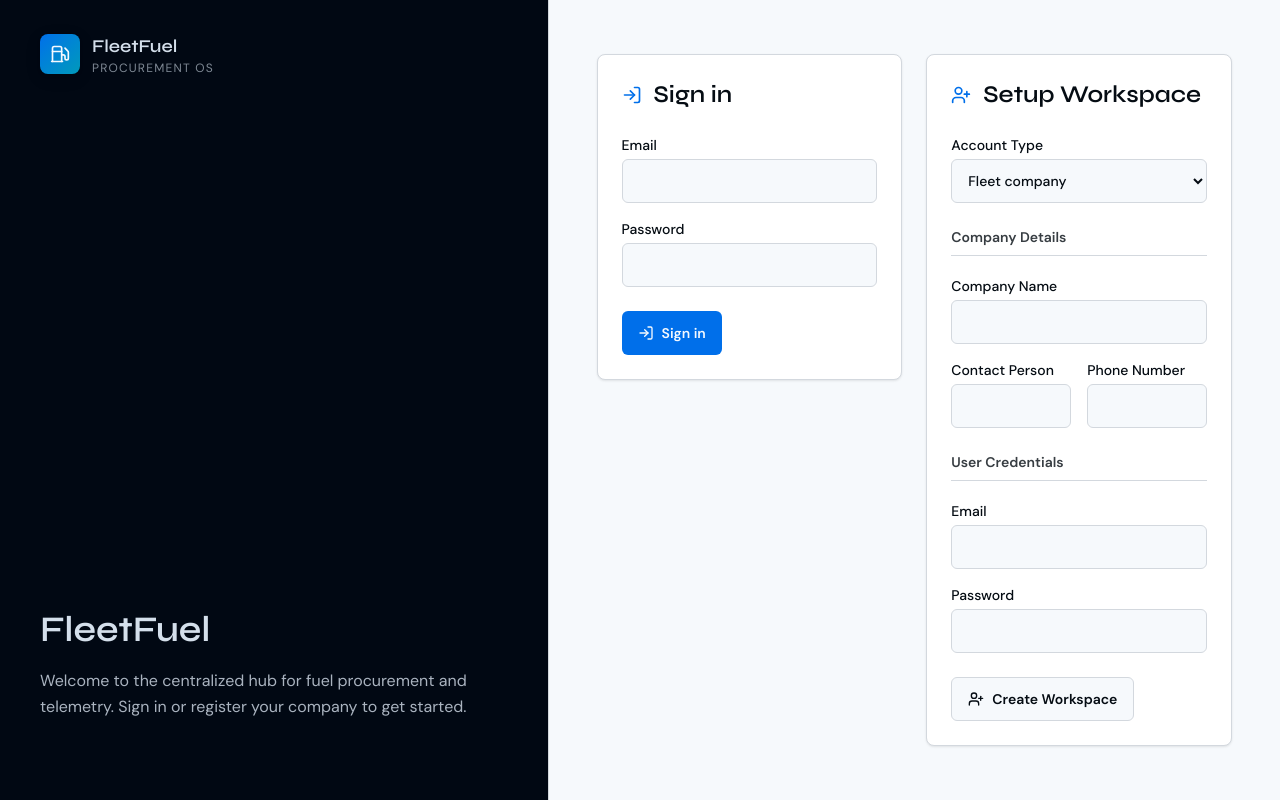
Test: App authentication › logs in a fuel supplier user and shows only supplier workspace routes
Step 1. Type "supplier@example.com" into the 1st field labelled "Email" → (749, 181), box [622,159,877,203]
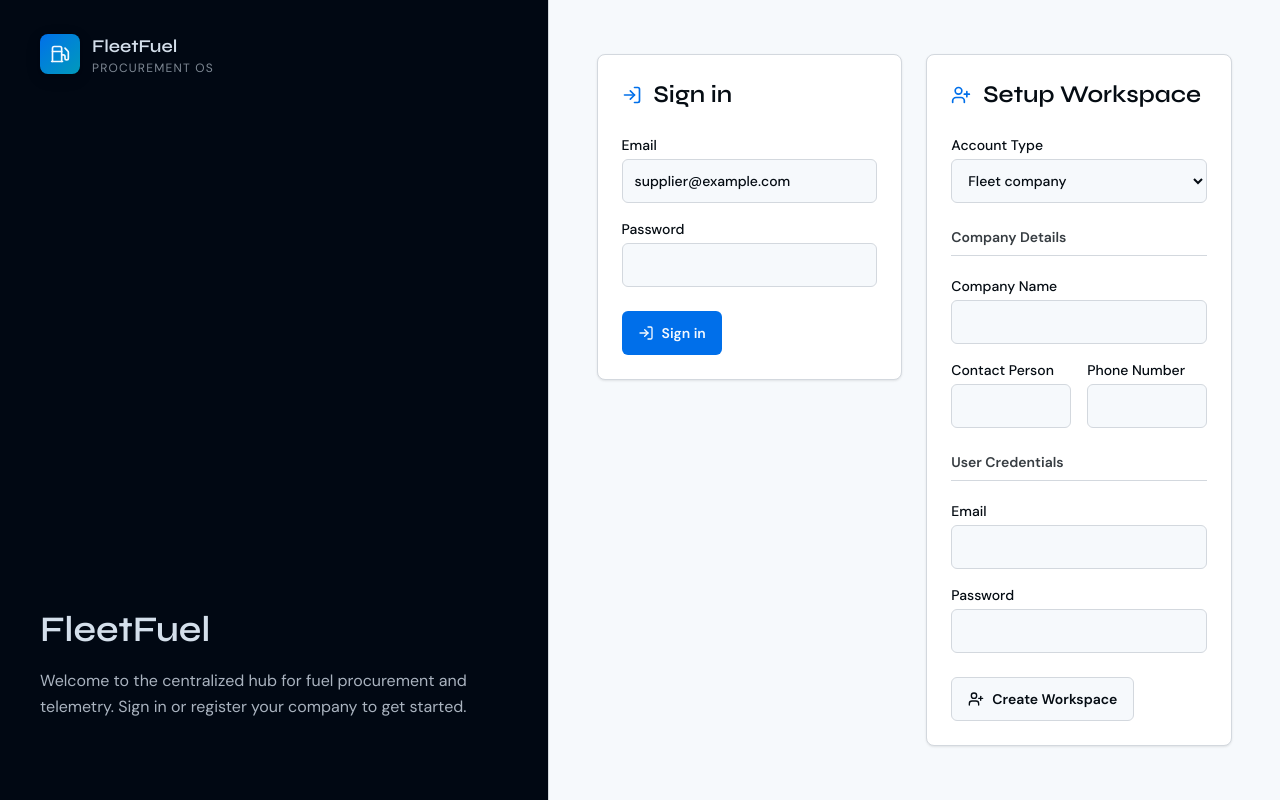
Step 2. Type "secret-123" into the 1st password field labelled "Password" → (749, 265), box [622,243,877,287]
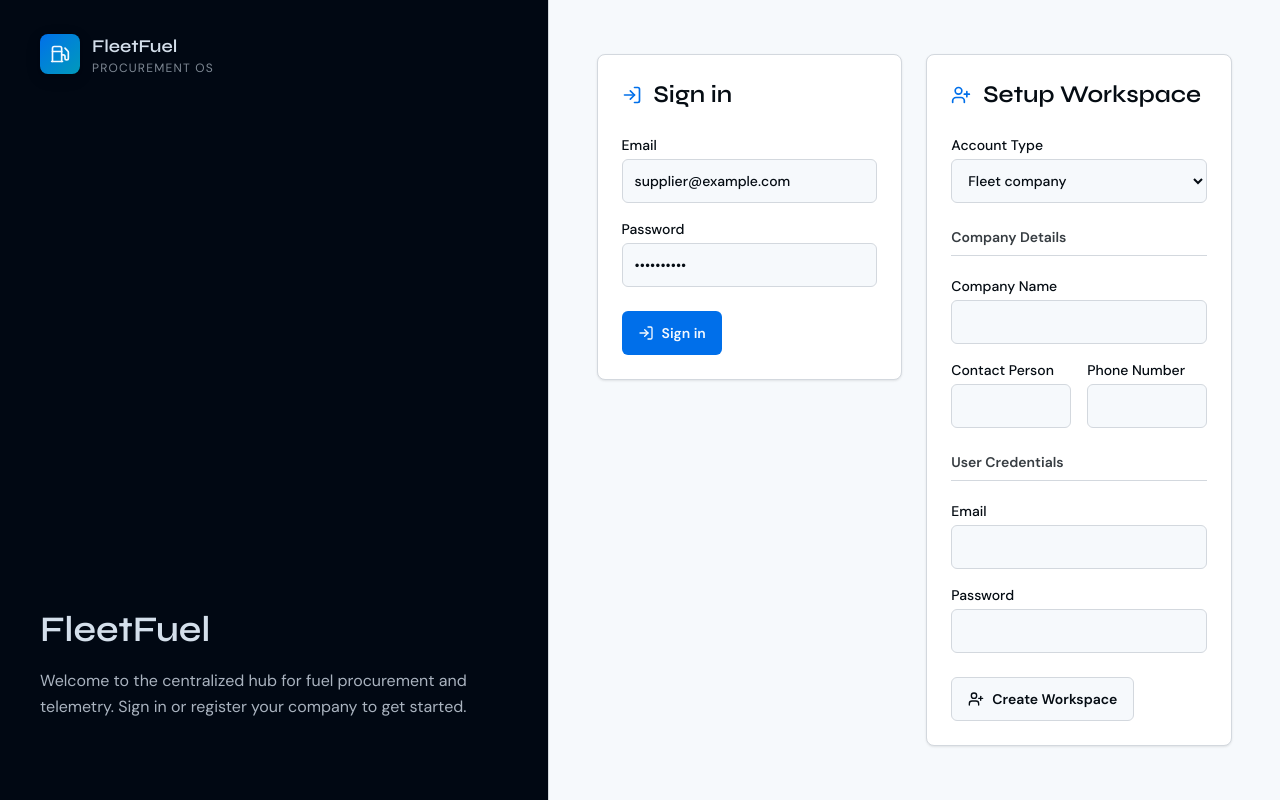
Step 3. Click the button "Sign in" → (672, 333), box [622,311,722,355]
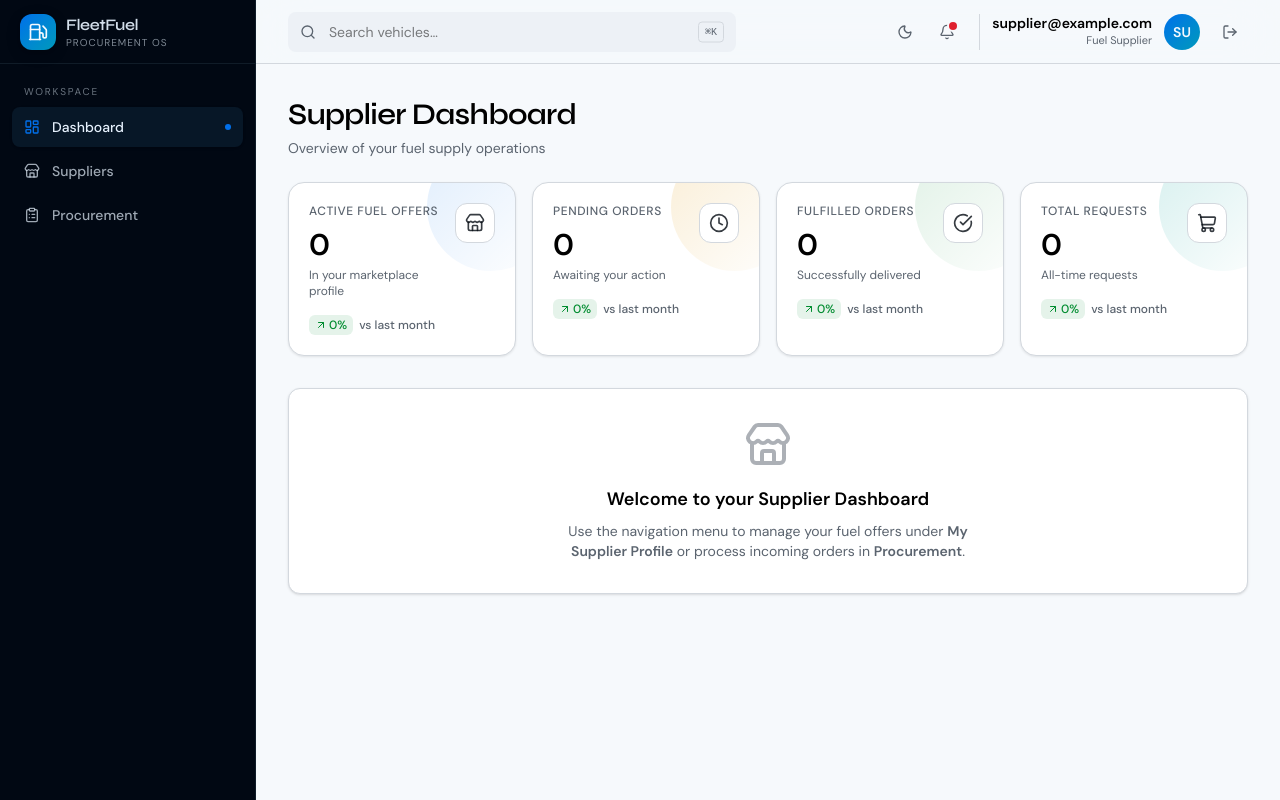
Now the heading "Supplier Dashboard" is shown, box [288,96,576,132]
Now the text "Suppliers" is shown, box [52,161,114,181]
Now the text "Procurement" below "Suppliers" is shown, box [52,206,138,224]
